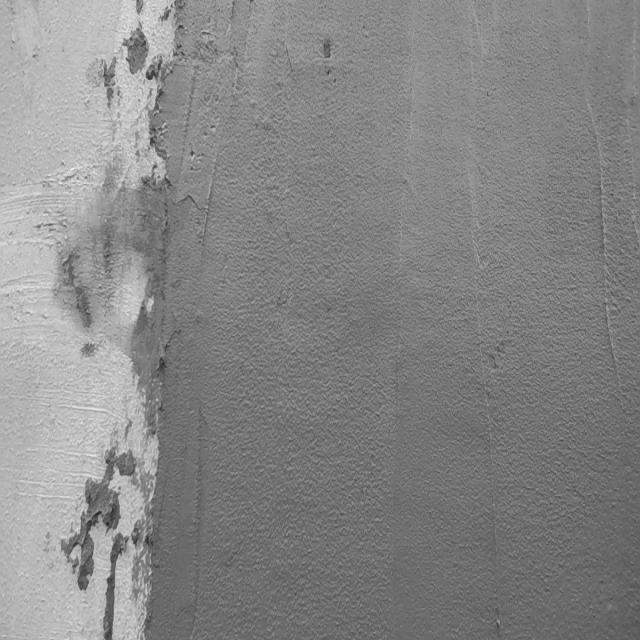trowels marks: (188, 159, 217, 615), (470, 208, 498, 640), (588, 110, 616, 426)
